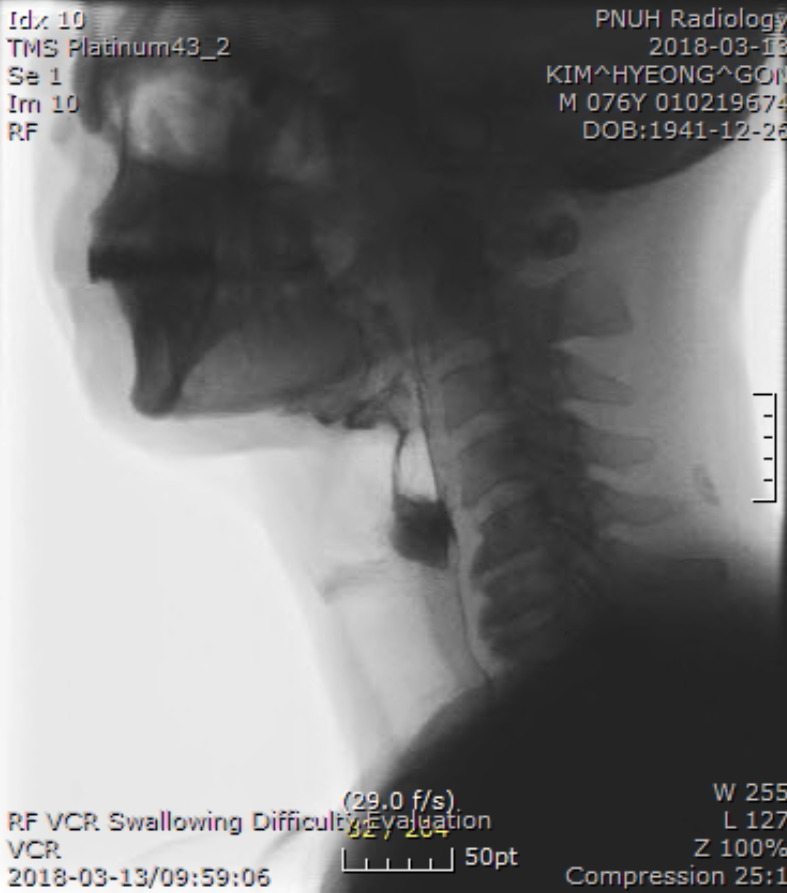dros: (380, 448, 447, 511)
food: (378, 487, 456, 575)
uros: (325, 386, 394, 440)
